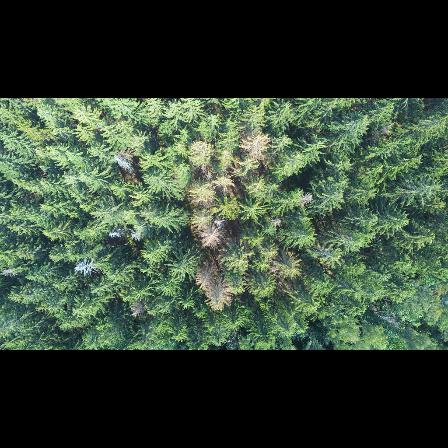Dead: (112, 150, 138, 177), (71, 255, 98, 279), (102, 225, 126, 241), (297, 190, 315, 207), (212, 214, 229, 231)
